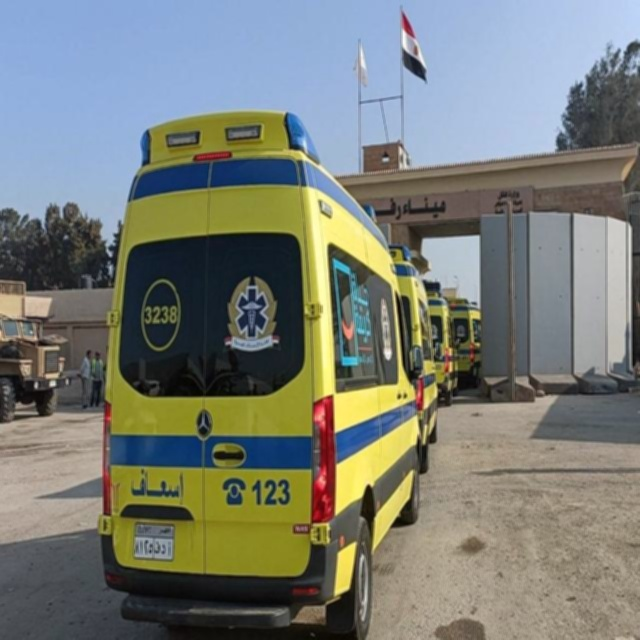Ambulance: (97, 108, 423, 637)
person: (78, 349, 92, 408), (89, 350, 103, 406)
